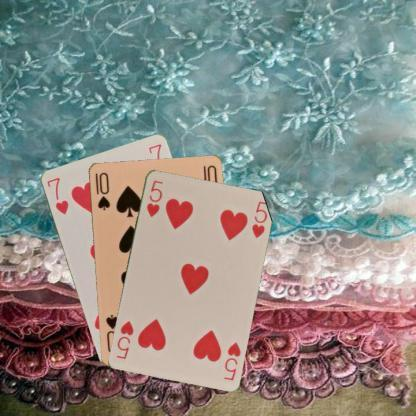10s: (92, 170, 110, 210)
5h: (221, 339, 242, 381), (143, 177, 164, 218)
7h: (43, 174, 70, 216)
